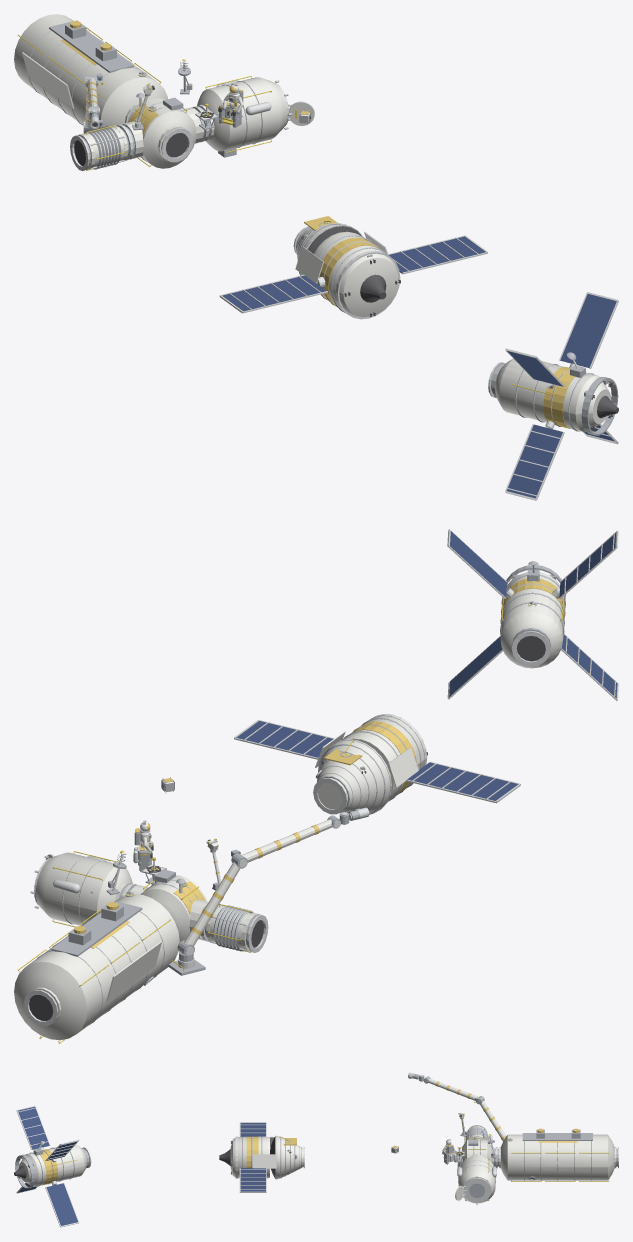
File: orbital-station-and-docking-bays-docking-approach-3a873071__24583.glb
The picture shows the model from 3 angles, top to bottom: view 1: azimuth 30°, elevation 25°; view 2: azimuth 150°, elevation 25°; view 3: azimuth 270°, elevation 25°; orthographic projection. The views are drawn at different scales.
Visible parts, largest first — view 1: 001-laboratory-module/0, 005-cargo-freighter/5, 004-crew-ferry-capsule/0, 002-airlock-module/0, 005-cargo-freighter/0, 004-crew-ferry-capsule/6, 000-node-four-port/0, 004-crew-ferry-capsule/2, 001-laboratory-module/1, 005-cargo-freighter/2, 005-cargo-freighter/1, 004-crew-ferry-capsule/1 (+6 smaller); view 2: 001-laboratory-module/0, 004-crew-ferry-capsule/0, 002-airlock-module/0, 004-crew-ferry-capsule/6, 005-cargo-freighter/5, 005-cargo-freighter/0, 004-crew-ferry-capsule/2, 001-laboratory-module/1, 005-cargo-freighter/2, 000-node-four-port/0, 007-manipulator-arm/7, 004-crew-ferry-capsule/3 (+4 smaller); view 3: 001-laboratory-module/0, 004-crew-ferry-capsule/0, 005-cargo-freighter/5, 005-cargo-freighter/0, 004-crew-ferry-capsule/6, 001-laboratory-module/1, 002-airlock-module/0, 005-cargo-freighter/2, 004-crew-ferry-capsule/2, 005-cargo-freighter/1, 000-node-four-port/0, 002-airlock-module/2 (+7 smaller).
Part boxes in pixels (left/top/right/bottom): 001-laboratory-module/0: left=14, top=14, right=167, bottom=128; 005-cargo-freighter/5: left=507, top=294, right=616, bottom=498; 004-crew-ferry-capsule/0: left=295, top=224, right=398, bottom=317; 002-airlock-module/0: left=197, top=77, right=287, bottom=151; 005-cargo-freighter/0: left=495, top=359, right=611, bottom=431; 004-crew-ferry-capsule/6: left=222, top=236, right=485, bottom=311; 000-node-four-port/0: left=122, top=98, right=203, bottom=168; 004-crew-ferry-capsule/2: left=219, top=224, right=487, bottom=319; 001-laboratory-module/1: left=29, top=21, right=147, bottom=125; 005-cargo-freighter/2: left=488, top=292, right=618, bottom=500; 005-cargo-freighter/1: left=491, top=352, right=618, bottom=435; 004-crew-ferry-capsule/1: left=301, top=226, right=400, bottom=317; 001-laboratory-module/0: left=14, top=894, right=179, bottom=1040; 004-crew-ferry-capsule/0: left=315, top=716, right=424, bottom=813; 002-airlock-module/0: left=36, top=852, right=132, bottom=925; 004-crew-ferry-capsule/6: left=236, top=721, right=517, bottom=800; 005-cargo-freighter/5: left=449, top=531, right=617, bottom=697; 005-cargo-freighter/0: left=500, top=572, right=564, bottom=668; 004-crew-ferry-capsule/2: left=234, top=714, right=520, bottom=814; 001-laboratory-module/1: left=24, top=894, right=164, bottom=1025; 005-cargo-freighter/2: left=447, top=529, right=618, bottom=700; 000-node-four-port/0: left=131, top=875, right=208, bottom=942; 007-manipulator-arm/7: left=184, top=819, right=331, bottom=945; 004-crew-ferry-capsule/3: left=313, top=717, right=421, bottom=814; 001-laboratory-module/0: left=499, top=1134, right=616, bottom=1180; 004-crew-ferry-capsule/0: left=230, top=1136, right=303, bottom=1179; 005-cargo-freighter/5: left=18, top=1106, right=78, bottom=1225; 005-cargo-freighter/0: left=19, top=1144, right=87, bottom=1186; 004-crew-ferry-capsule/6: left=240, top=1123, right=265, bottom=1191; 001-laboratory-module/1: left=497, top=1129, right=617, bottom=1180; 002-airlock-module/0: left=458, top=1156, right=495, bottom=1203; 005-cargo-freighter/2: left=16, top=1105, right=91, bottom=1227; 004-crew-ferry-capsule/2: left=235, top=1122, right=304, bottom=1192; 005-cargo-freighter/1: left=15, top=1141, right=89, bottom=1188; 000-node-four-port/0: left=460, top=1139, right=493, bottom=1164; 002-airlock-module/2: left=457, top=1167, right=496, bottom=1205.
Bounding box in the file's own units: 16.18 × 9.26 × 55.38.
